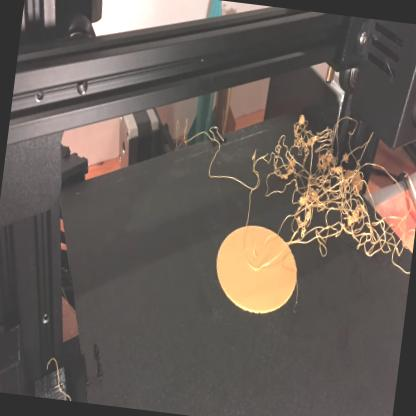fail: (242, 90, 416, 273)
